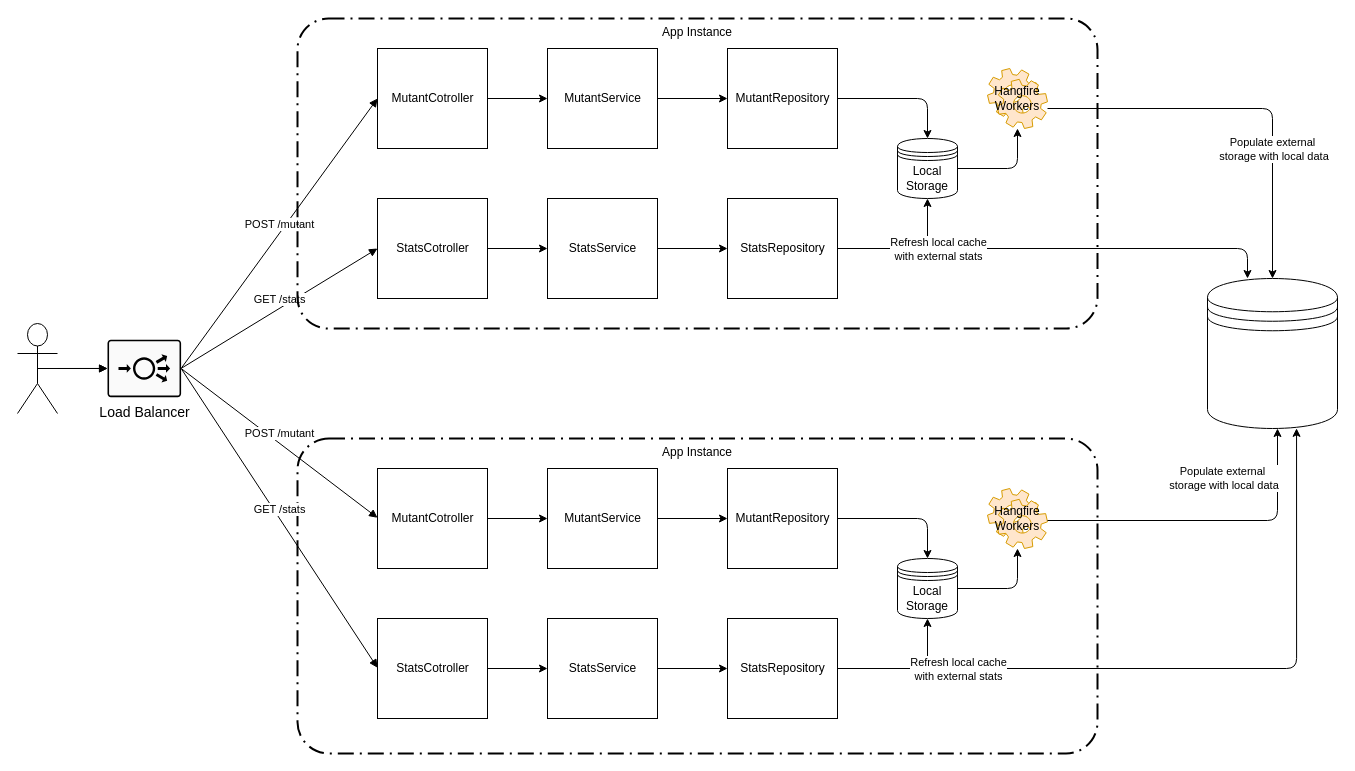
The diagram is 1355 pixels wide and 771 high, and some of its shapes have lost their labels. The centre of each missing label's shape, as x and y in pixels:
Actor: [37,368]
External Database: [1272,353]
